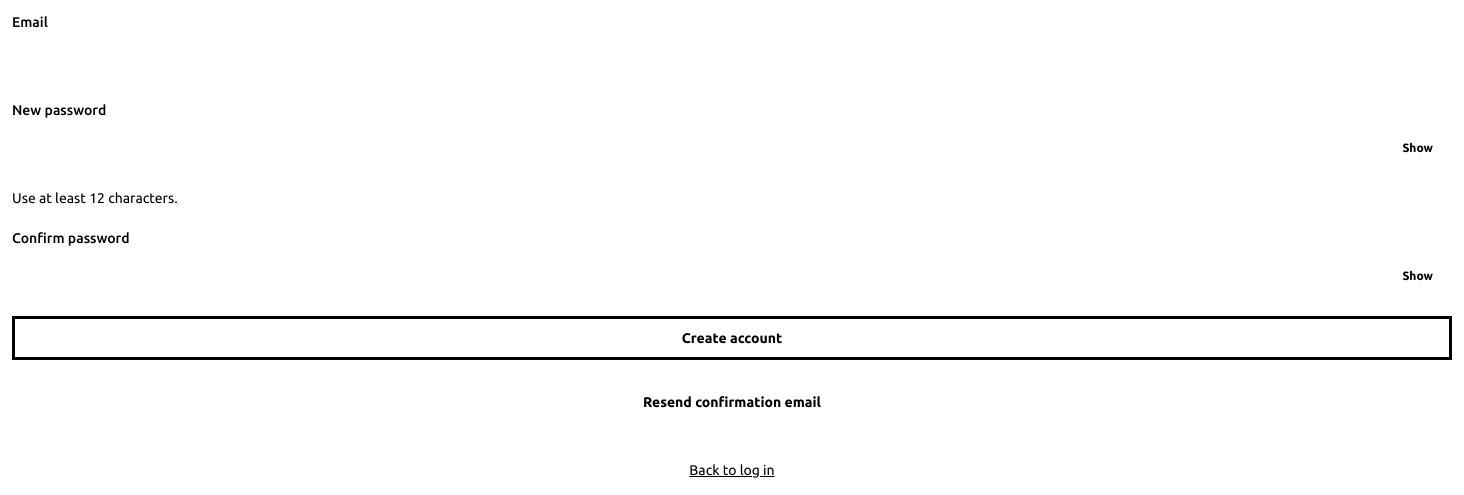
Test: authentication components › clears new passwords after signup and provides another-address navigation
In the password field labelled "New password": (732, 148) [12,128,1452,168], type "fictional-password"
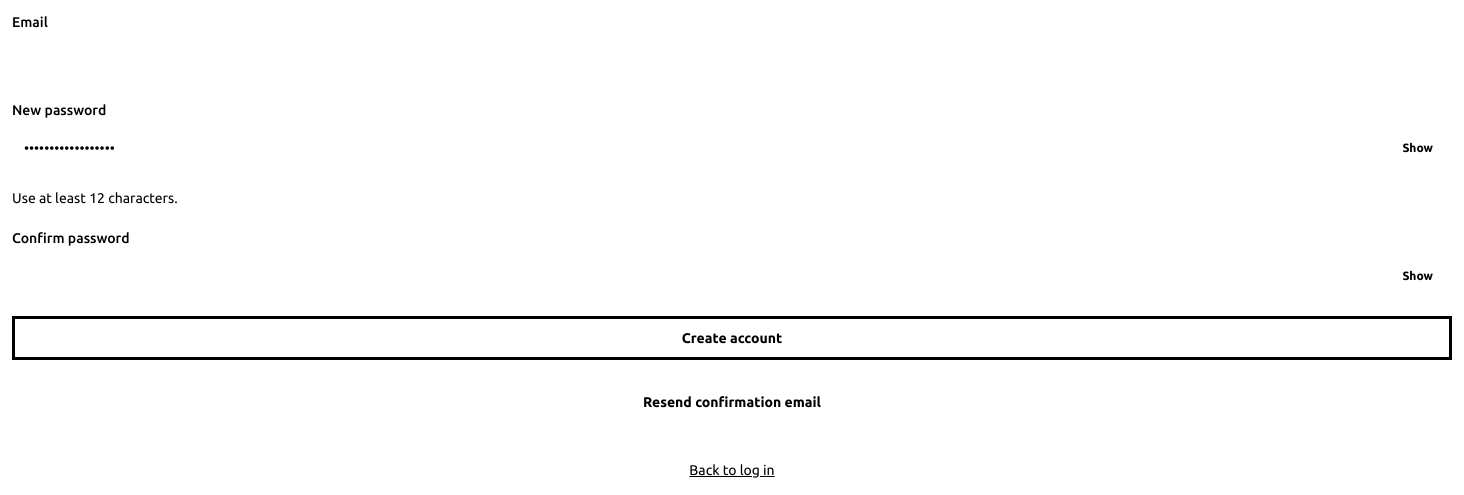
In the password field labelled "Confirm password": (732, 276) [12,256,1452,296], type "fictional-password"
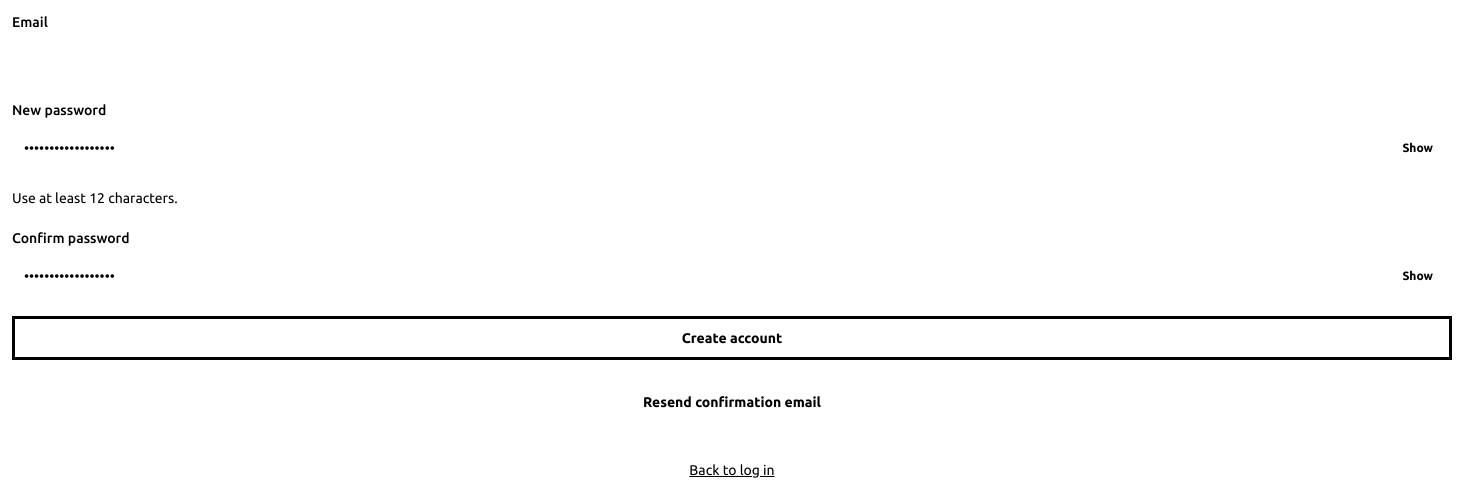
Click the button "Create account": (732, 338) [12,316,1452,360]
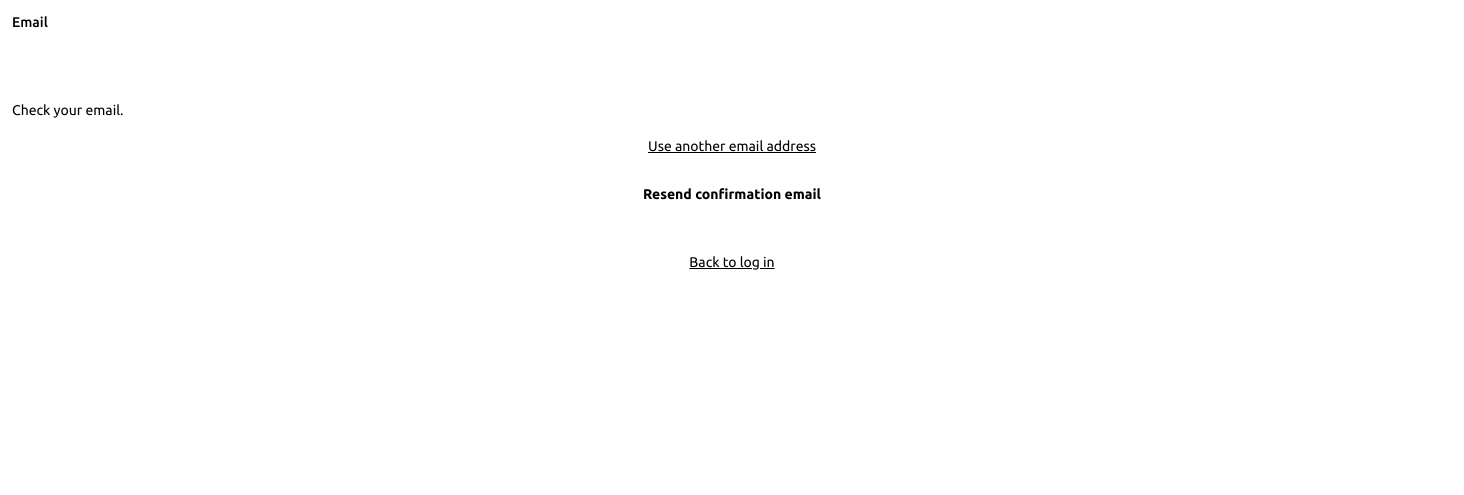
Expected: the text "Check your email." is shown, [12,102,124,118]
Expected: the label labelled "New password" is gone
Expected: the button "Create account" is gone
